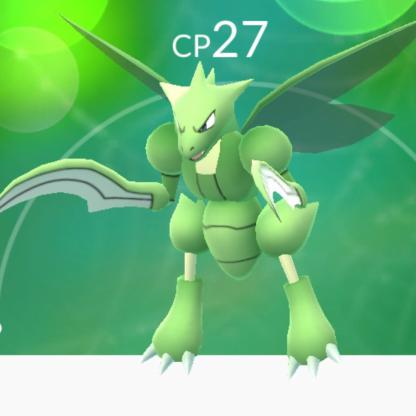Scyther: (3, 13, 416, 381)
